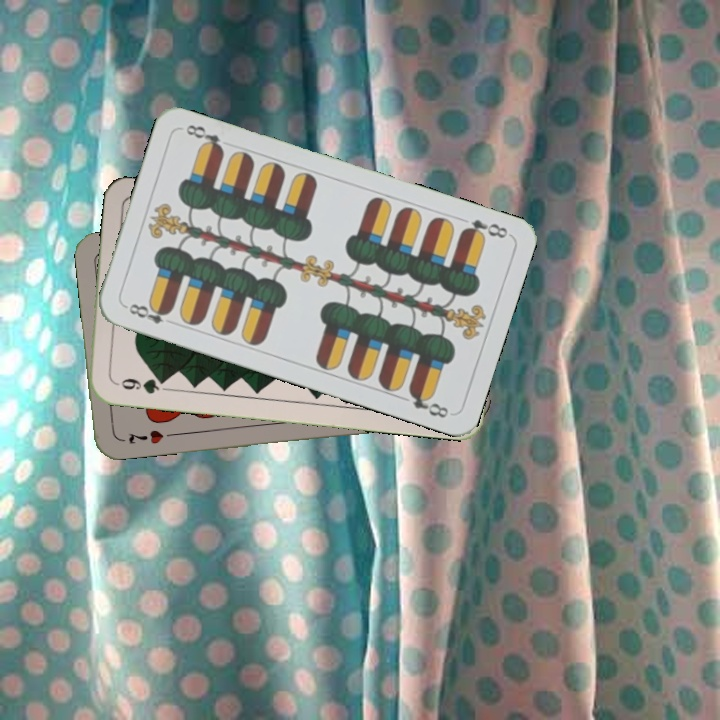E8: (457, 215, 511, 243), (121, 299, 174, 327)
G9: (110, 374, 170, 397)
H7: (124, 425, 166, 447)
